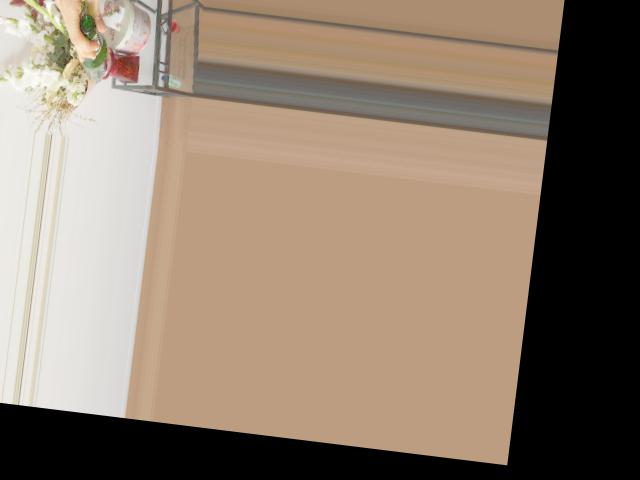beer: (73, 13, 113, 82)
